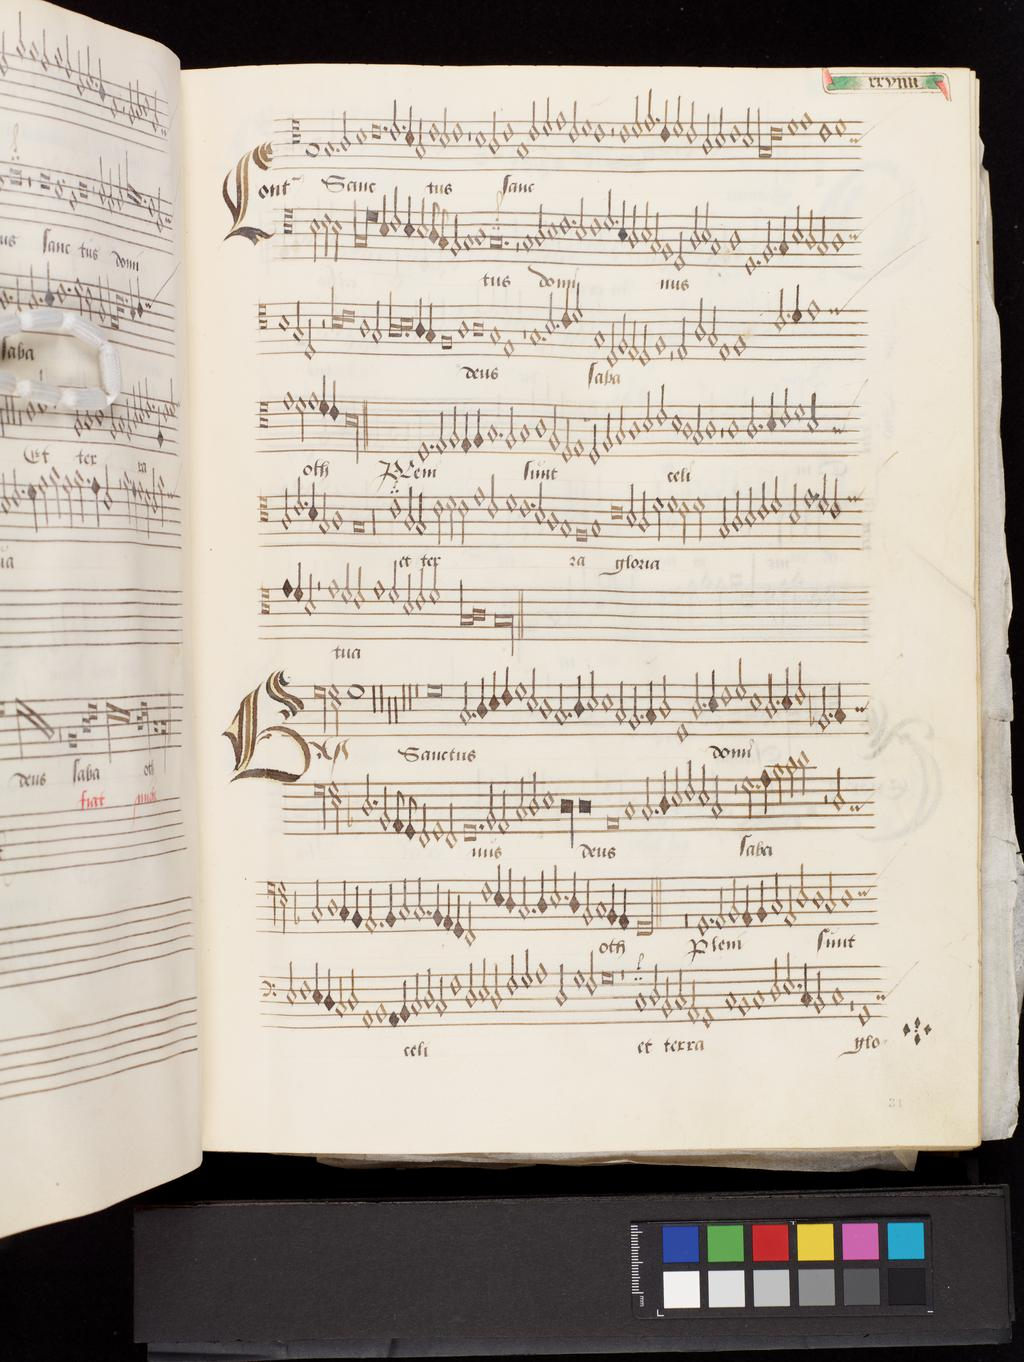barline: (653, 867, 665, 933)
breve rest: (680, 868, 692, 934)
custos_6: (854, 877, 888, 906)
f clef_5: (260, 874, 288, 937)
flat_9: (288, 884, 305, 933)
longa_11: (634, 870, 656, 944)
minim_10: (362, 880, 378, 938), (782, 878, 797, 932), (713, 880, 727, 932)
minim_12: (463, 896, 477, 948)
minim_6: (546, 859, 561, 916)
minim_7: (792, 857, 810, 913), (568, 865, 584, 918)
minim_8: (308, 871, 326, 930), (411, 870, 426, 926), (397, 870, 412, 925), (515, 871, 530, 926), (824, 864, 839, 919), (769, 866, 785, 917)
minim_9: (725, 871, 740, 926), (580, 875, 594, 928)
point: (421, 902, 433, 919), (706, 912, 719, 930), (526, 903, 538, 919), (561, 888, 571, 907), (375, 916, 387, 931)
semibreve_11: (693, 905, 710, 941)
semibreve_5: (479, 875, 495, 905)
semibreve_7: (325, 889, 340, 923), (839, 882, 856, 912), (810, 882, 825, 912)
semibreve_8: (595, 893, 608, 922)
semiminim_10: (741, 878, 755, 931), (442, 881, 454, 936), (618, 884, 631, 934)
semiminim_11: (451, 889, 465, 944)
semiminim_6: (492, 861, 504, 913)
semiminim_7: (535, 865, 549, 918), (504, 862, 517, 918)
semiminim_8: (339, 874, 351, 930)
semiminim_9: (754, 874, 769, 930), (384, 877, 398, 935), (432, 874, 446, 931), (606, 874, 620, 930), (350, 878, 362, 934)
